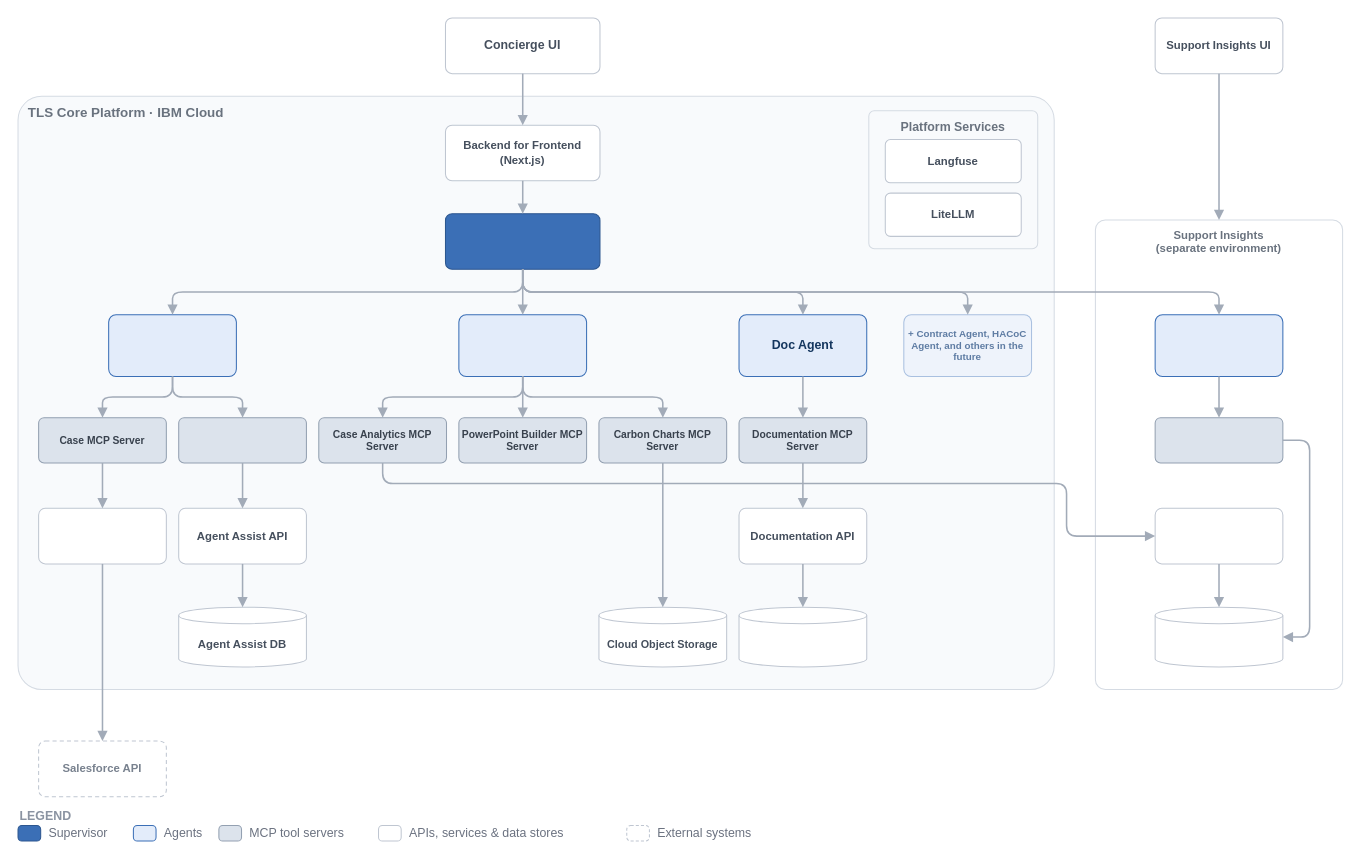
The diagram is 1361 pixels wide and 861 high, and some of its shapes have lost their labels. The box of each missing label's shape, as (x1, y1, x2, y2) in pixels:
Agent Assist MCP Server: (178, 417, 306, 463)
Asset Agent: (1154, 314, 1283, 376)
Asset MCP Server: (1154, 417, 1283, 463)
Case Agent: (108, 314, 236, 376)
Client Management Agent: (458, 314, 587, 376)
Milvus: (738, 606, 867, 667)
Salesforce Proxy API: (38, 507, 166, 564)
Supervisor Agent: (444, 213, 600, 269)
Support Insights API: (1154, 507, 1283, 564)
Support Insights DB: (1154, 606, 1283, 667)
